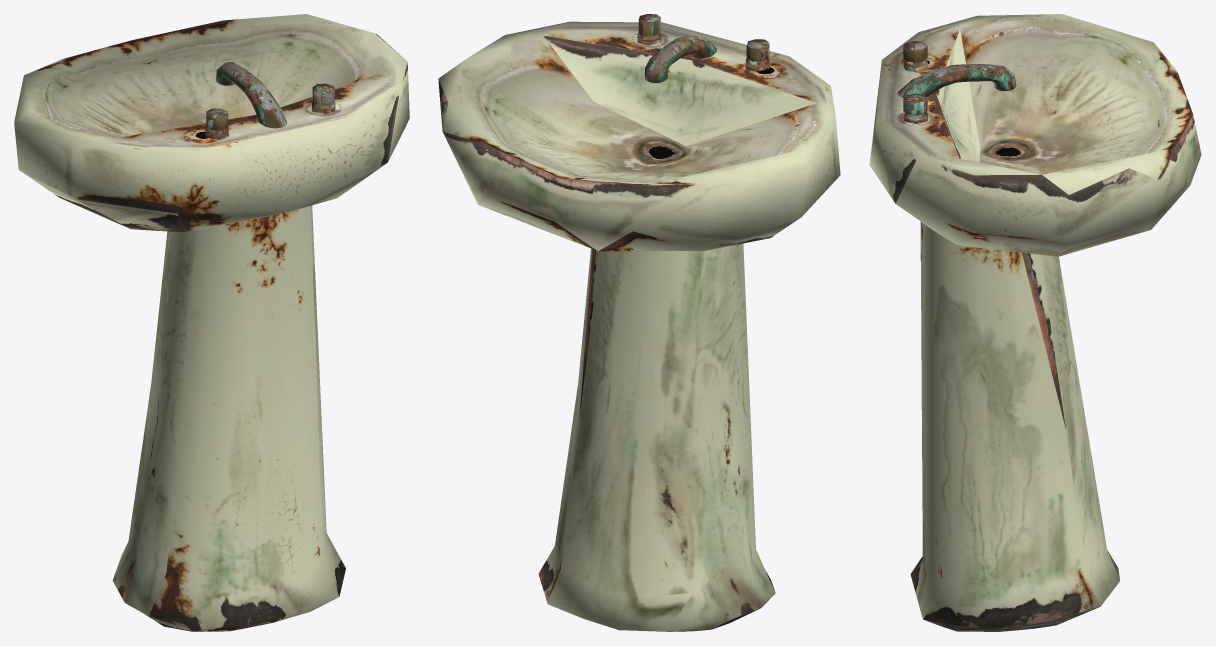
The model's file is BrknSink.fbx.
The picture shows the model from 3 angles, left to right: view 1: azimuth 30°, elevation 25°; view 2: azimuth 150°, elevation 25°; view 3: azimuth 270°, elevation 25°; orthographic projection. The views are drawn at different scales.
Parts seen in each view (by area): view 1: Cube.012; view 2: Cube.012; view 3: Cube.012.
Part boxes in pixels (<box>): Cube.012: <box>14,14,409,631</box>; Cube.012: <box>438,14,840,631</box>; Cube.012: <box>869,14,1201,631</box>.
Size of the model in its own units: 50 by 70 by 40.
Materials: 1 (1 with a texture image).
